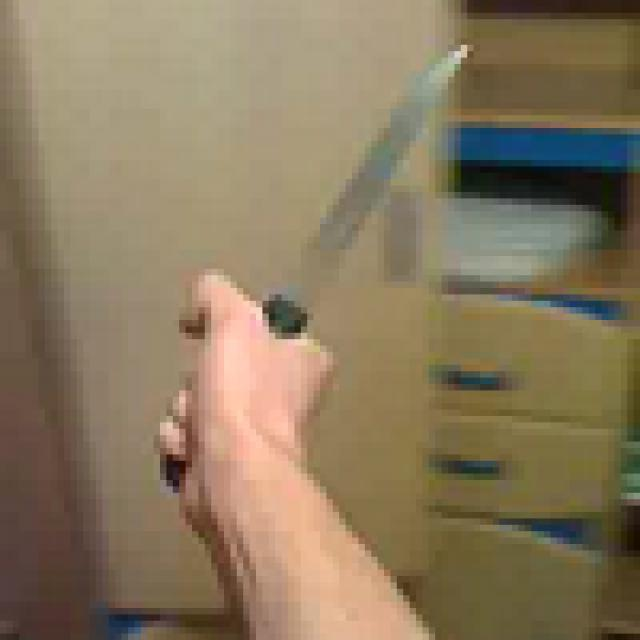Knife: (166, 45, 493, 480)
